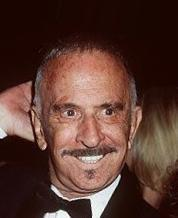face: (56, 101, 120, 171)
